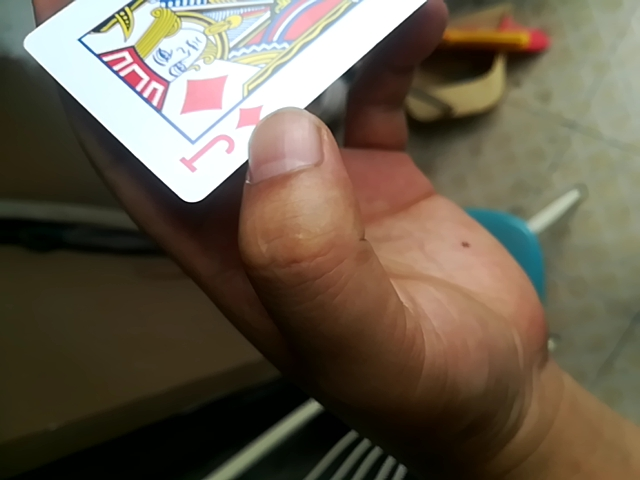fk j: (16, 0, 453, 209)
